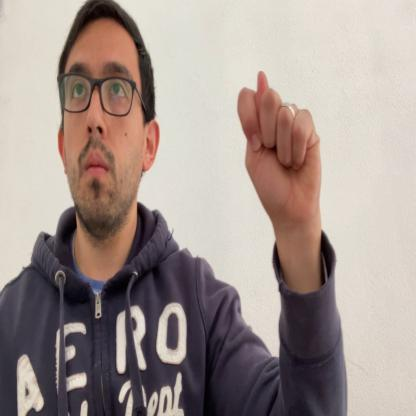T: (238, 69, 324, 228)
